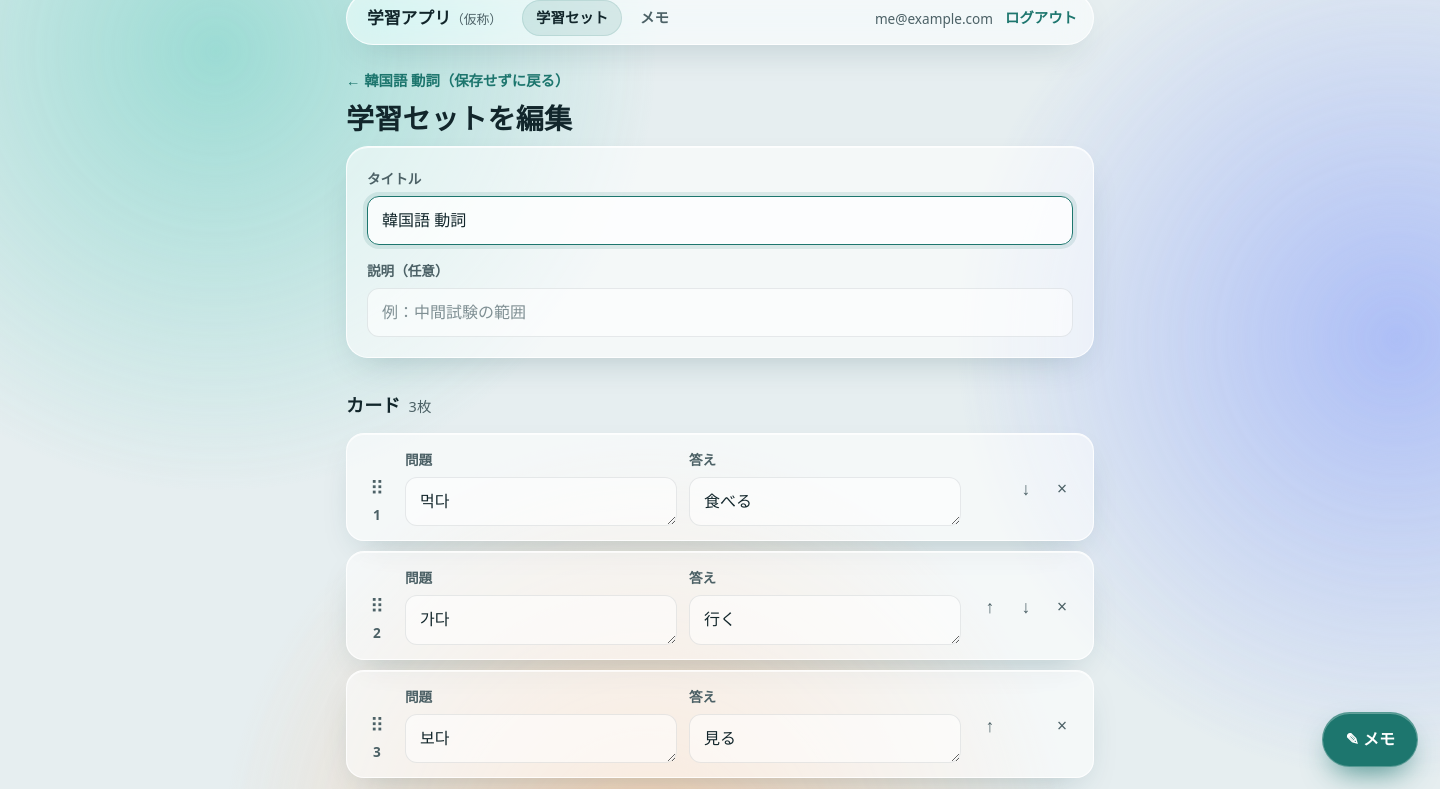
Test: 学習セットを編集する › カードを削除して保存すると、そのカードは消える
What coordinates should you click on to do the following:
click the button named "2枚目を削除"
I would click on:
 (1062, 607)
Its box is [1045,590,1079,624].
(page scrolled)
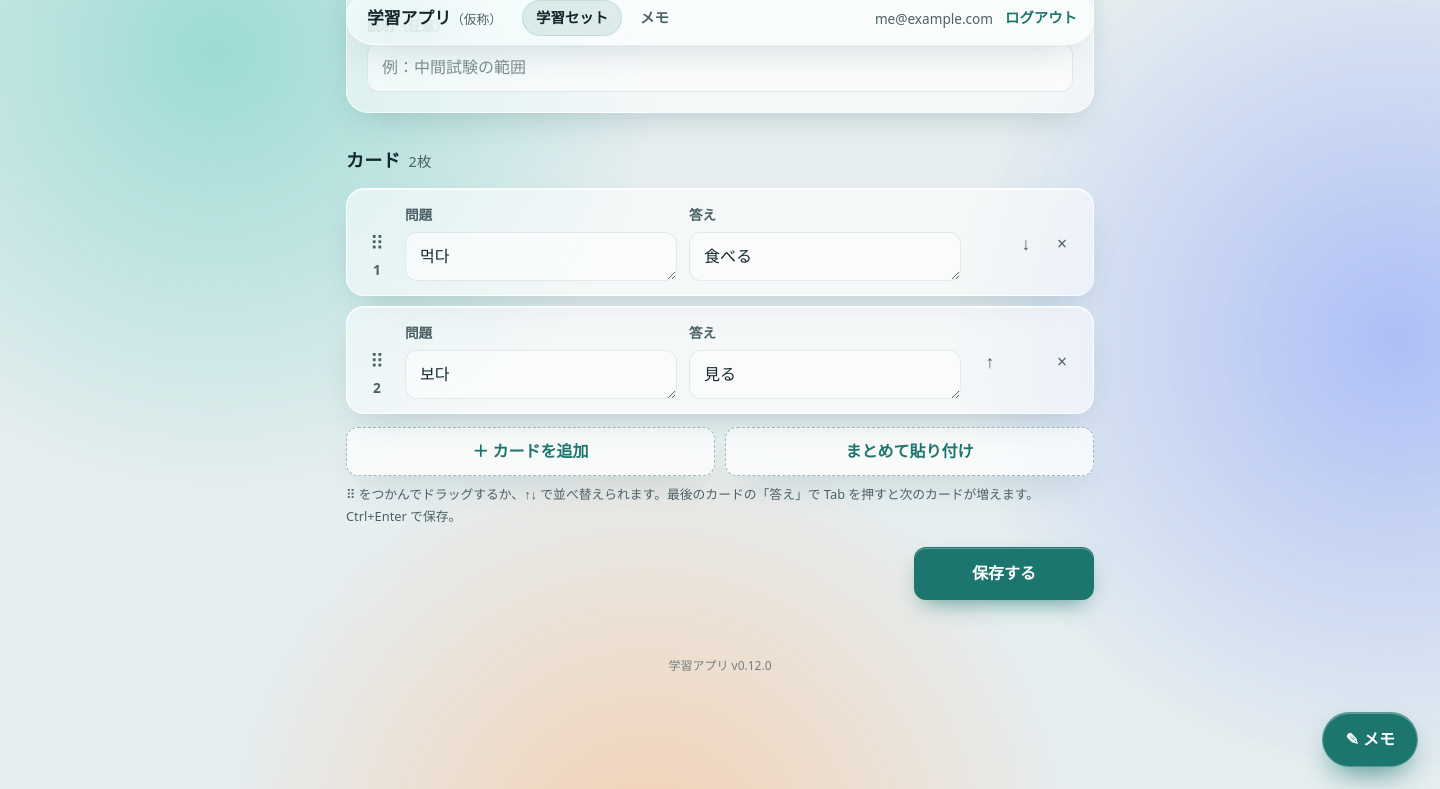
What coordinates should you click on to do the following:
click the button "保存する"
I would click on:
 (1004, 574)
Its box is [914,547,1094,600].
(page scrolled)
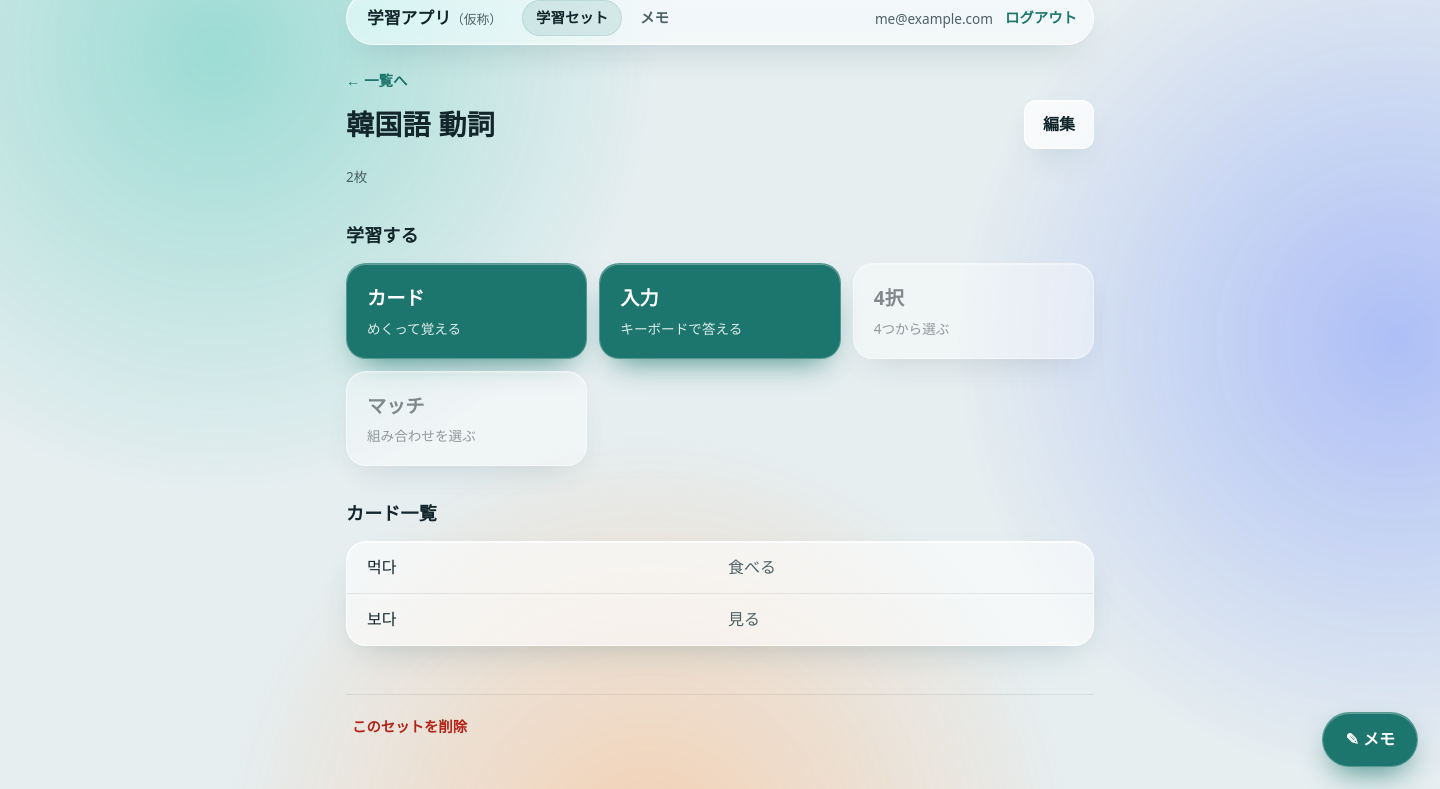
expect the heading "韓国語 動詞" is shown: met, box [346,106,495,144]
